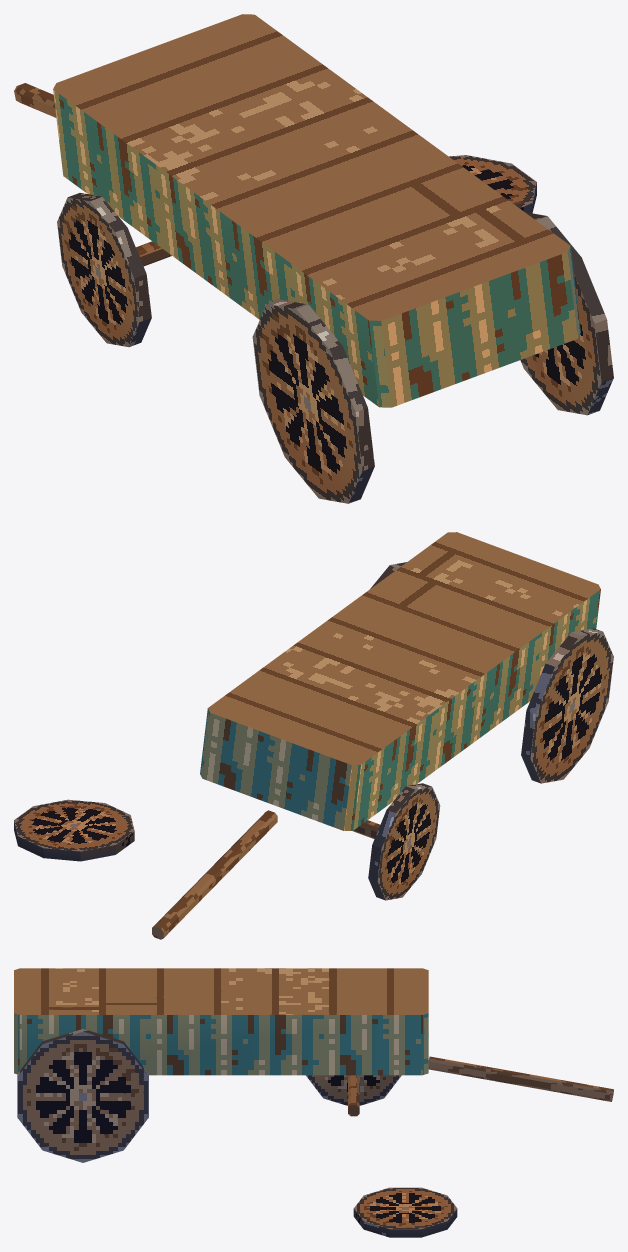
The model's file is wprop.wagon__broken.glb.
3 renders of one model, top to bottom at view 1: azimuth 30°, elevation 25°; view 2: azimuth 150°, elevation 25°; view 3: azimuth 270°, elevation 25°, orthographic. The views are drawn at different scales.
Parts seen in each view (by area): view 1: kit_box, kit_wheels, kit_fallen_wheel, kit_tongue; view 2: kit_box, kit_wheels, kit_fallen_wheel, kit_tongue; view 3: kit_box, kit_wheels, kit_fallen_wheel, kit_tongue, kit_axles.
Part boxes in pixels (<box>): kit_box: <box>53,14,580,407</box>; kit_wheels: <box>57,193,613,503</box>; kit_fallen_wheel: <box>449,155,536,213</box>; kit_tongue: <box>14,83,56,117</box>; kit_box: <box>200,532,600,830</box>; kit_wheels: <box>368,562,613,900</box>; kit_fallen_wheel: <box>14,799,134,861</box>; kit_tongue: <box>152,810,277,939</box>; kit_box: <box>14,968,428,1075</box>; kit_wheels: <box>17,1029,401,1162</box>; kit_fallen_wheel: <box>353,1187,457,1237</box>; kit_tongue: <box>428,1056,613,1101</box>; kit_axles: <box>348,1075,359,1116</box>.
Bounding box in the file's own units: 3.08 × 1.47 × 5.21.
5 materials, 5 textured.
